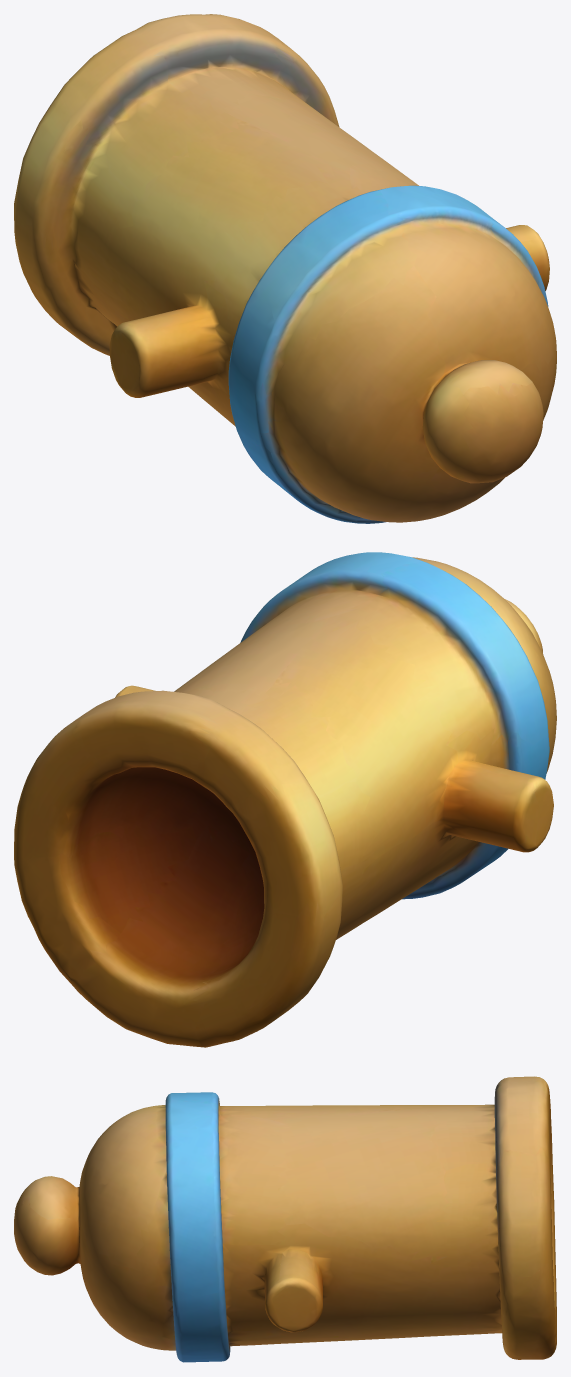
Rendered from cannon-barrel.glb.
3 renders of one model, top to bottom at view 1: azimuth 30°, elevation 25°; view 2: azimuth 150°, elevation 25°; view 3: azimuth 270°, elevation 25°, orthographic. The views are drawn at different scales.
Visible parts, largest first — view 1: cannon-barrel; view 2: cannon-barrel; view 3: cannon-barrel.
Boxes of the visible parts, box(x1,y1,x2,y2) form: cannon-barrel: box(14, 14, 556, 523); cannon-barrel: box(14, 552, 556, 1047); cannon-barrel: box(14, 1076, 556, 1362).
Size of the model in its own units: 0.9071 by 0.703 by 1.32.
Materials: 1 (1 with a texture image).
